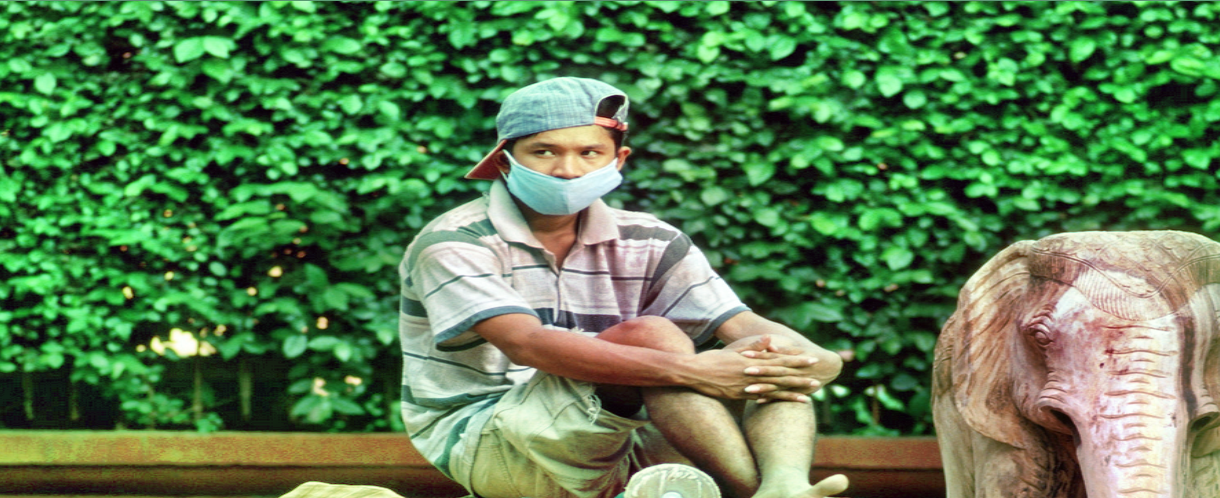mask_weared_incorrect: (473, 75, 637, 227)
